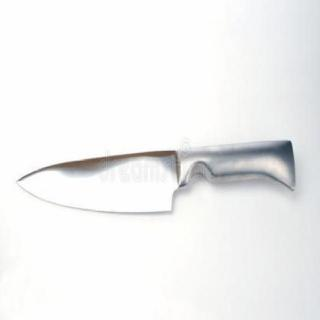knife: (17, 107, 271, 251)
